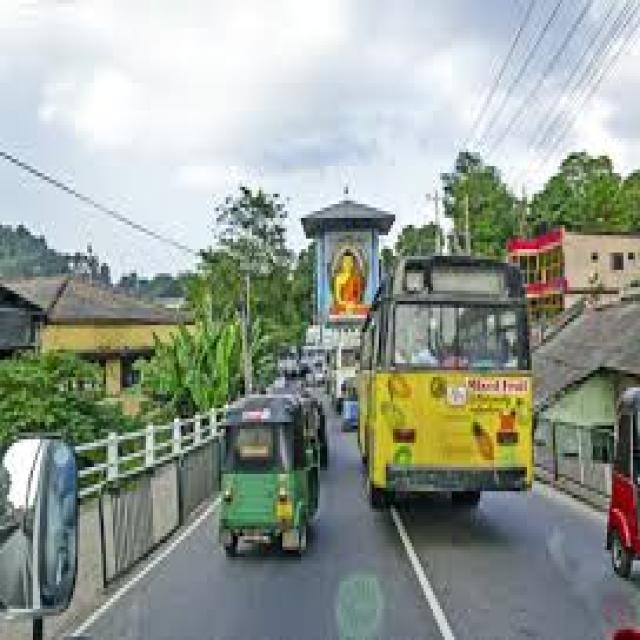bus: (360, 256, 529, 502)
three wheeler: (219, 394, 320, 557), (607, 387, 638, 578)
